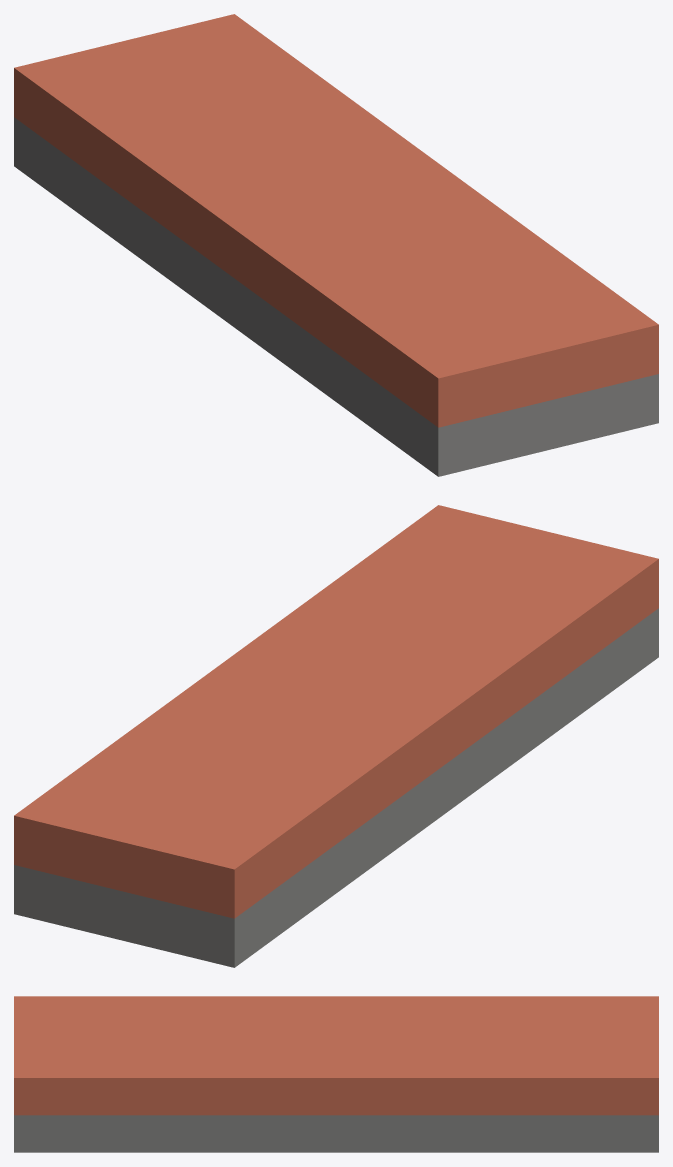
File: Indian Stone.fbx
3 views of the same model, one above another, from view 1: azimuth 30°, elevation 25°; view 2: azimuth 150°, elevation 25°; view 3: azimuth 270°, elevation 25° (orthographic). The views are drawn at different scales.
Visible parts, largest first — view 1: Cube; view 2: Cube; view 3: Cube.
Boxes of the visible parts, x1,y1,x2,y2 form: Cube: (14, 14, 658, 476); Cube: (14, 505, 658, 967); Cube: (14, 996, 658, 1152).
Size of the model in its own units: 60 by 25.6 by 200.
